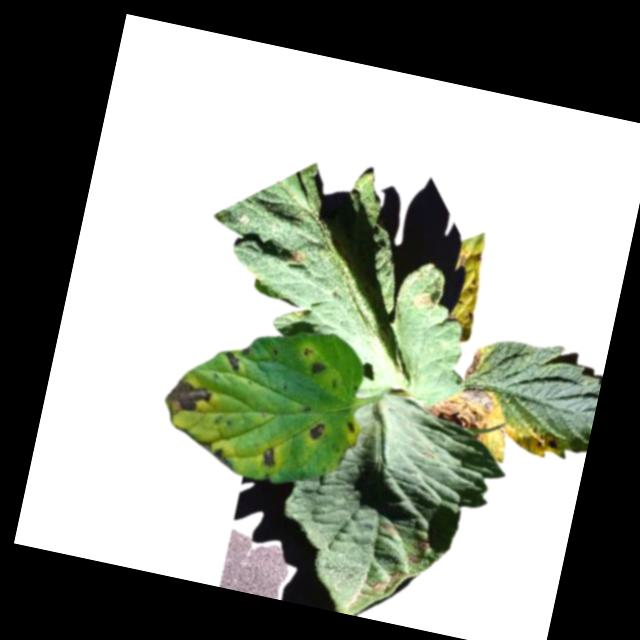Early_blight: (422, 378, 502, 444), (161, 376, 215, 426), (368, 565, 407, 601), (219, 342, 252, 380), (457, 244, 487, 276), (209, 445, 239, 474), (464, 345, 486, 384), (405, 536, 429, 566), (414, 290, 437, 315), (308, 420, 330, 444), (258, 445, 277, 468), (308, 361, 327, 379), (543, 436, 562, 453), (289, 249, 305, 267), (345, 420, 356, 435)
